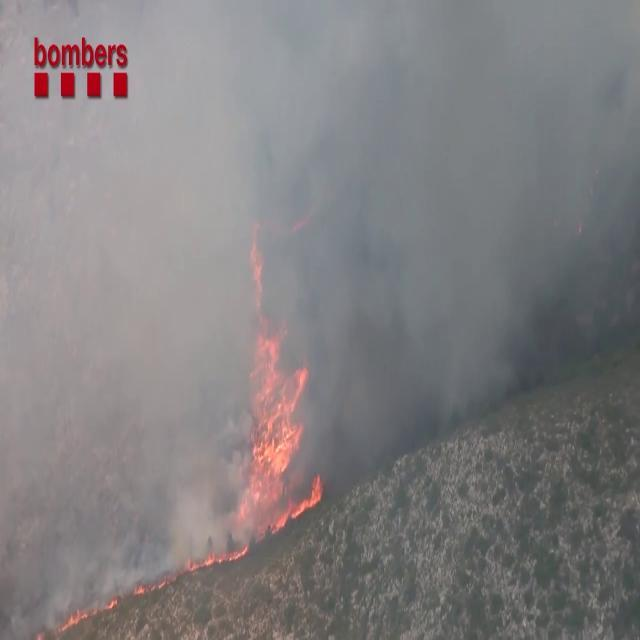Fire: (240, 289, 314, 523)
Smoke: (1, 0, 640, 595)
